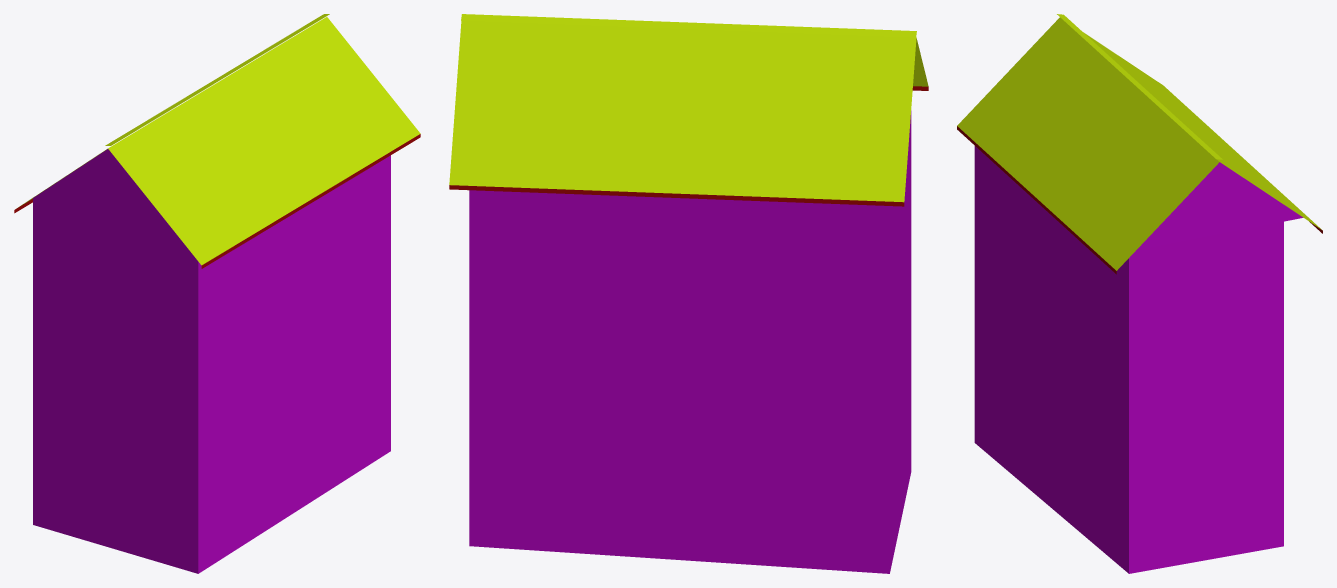
File: bgj_6.glb
3 views of the same model, side by side, from view 1: azimuth 30°, elevation 25°; view 2: azimuth 150°, elevation 25°; view 3: azimuth 270°, elevation 25° (orthographic). The views are drawn at different scales.
Visible parts, largest first — view 1: bgj_6; view 2: bgj_6; view 3: bgj_6.
Boxes of the visible parts, x1=… form: bgj_6: x1=14, y1=14, x2=420, y2=573; bgj_6: x1=449, y1=14, x2=928, y2=573; bgj_6: x1=957, y1=14, x2=1322, y2=573.
Bounding box in the file's own units: 13.22 × 13.5 × 11.01.
